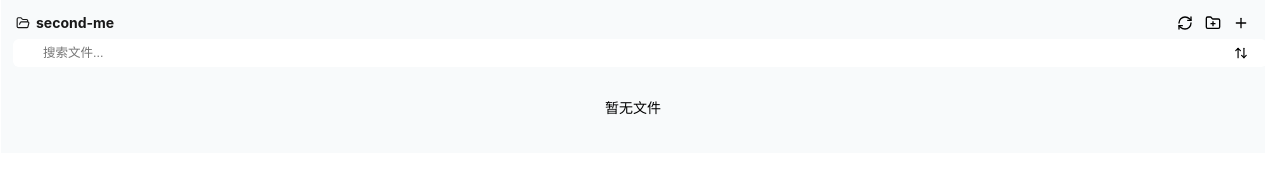
Test case: FileSidebar › offers manual sorting in the sort menu
Click the button with class "fs-sort-btn".
click(1241, 53)  # box [1229,41,1253,65]
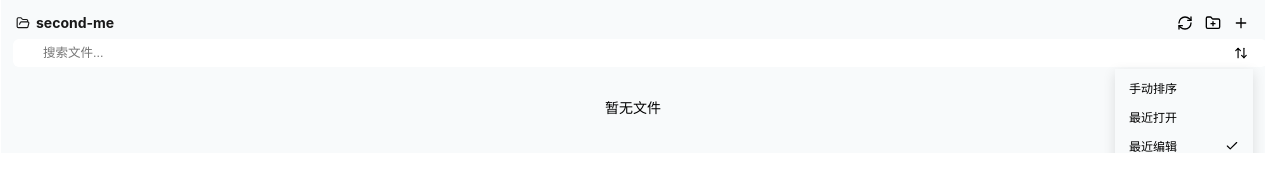
Expected: the text "手动排序" is shown, [1129,79,1177,96]
